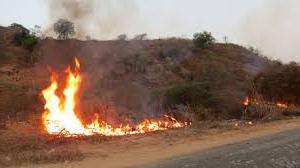fire: (37, 60, 192, 138)
